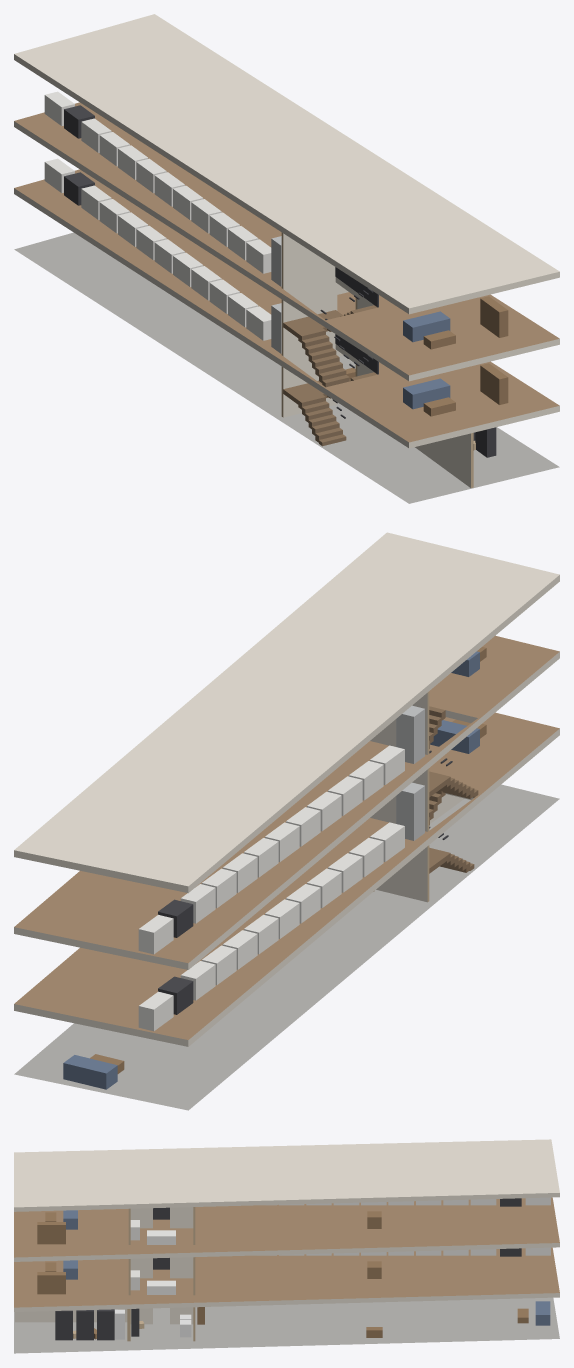
File: interior.glb
3 renders of one model, top to bottom at view 1: azimuth 30°, elevation 25°; view 2: azimuth 150°, elevation 25°; view 3: azimuth 270°, elevation 25°, orthographic. The views are drawn at different scales.
Visible parts, largest first — view 1: slabs, coarse-s1, coarse-s2, partitions, stair, coarse-s0; view 2: slabs, coarse-s1, coarse-s2, partitions, stair, coarse-s0; view 3: slabs, partitions, coarse-s0, coarse-s2, coarse-s1, stair.
Boxes of the visible parts, <box> form: slabs: <box>14,14,559,503</box>; coarse-s1: <box>44,158,508,416</box>; coarse-s2: <box>44,91,508,349</box>; partitions: <box>281,232,473,487</box>; stair: <box>283,267,378,446</box>; coarse-s0: <box>345,367,496,457</box>; slabs: <box>14,532,559,1110</box>; coarse-s1: <box>138,719,486,1031</box>; coarse-s2: <box>138,647,486,954</box>; partitions: <box>370,691,464,902</box>; stair: <box>429,706,478,873</box>; coarse-s0: <box>63,891,374,1089</box>; slabs: <box>14,1139,559,1353</box>; partitions: <box>15,1207,195,1341</box>; coarse-s0: <box>55,1301,550,1340</box>; coarse-s2: <box>37,1197,550,1244</box>; coarse-s1: <box>37,1247,550,1294</box>; stair: <box>153,1207,169,1269</box>.
Bounding box in the file's own units: 8.51 × 8.55 × 28.89.
